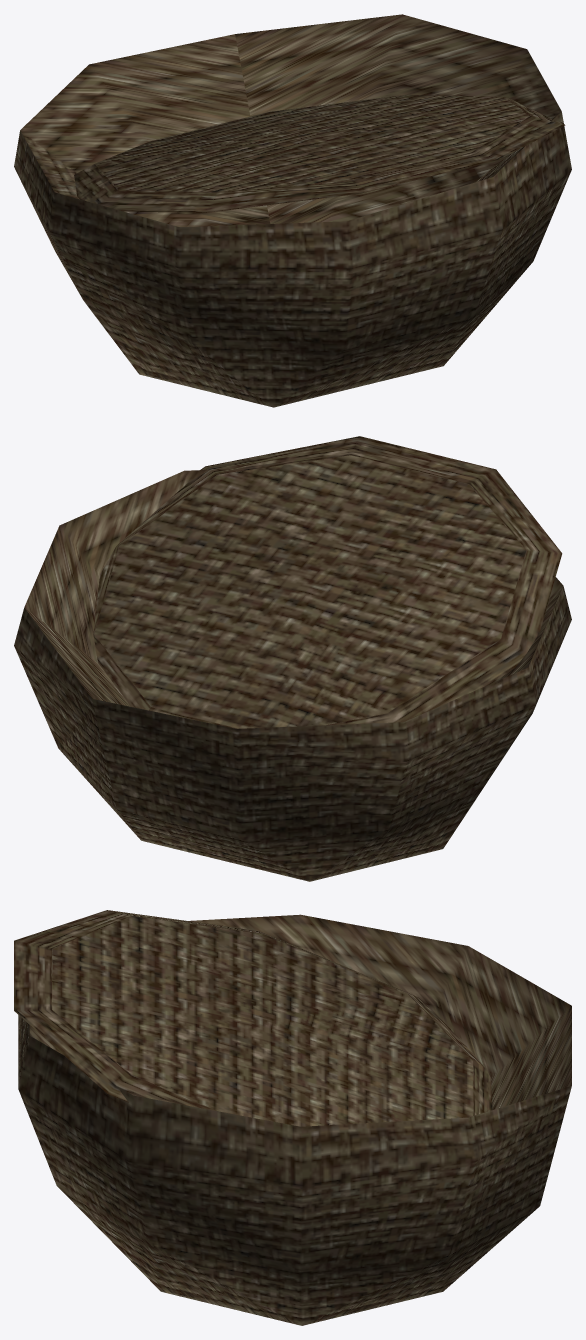
The model's file is edb_con_tato_basket_s01_l1.fbx.
The picture shows the model from 3 angles, top to bottom: view 1: azimuth 30°, elevation 25°; view 2: azimuth 150°, elevation 25°; view 3: azimuth 270°, elevation 25°; orthographic projection. The views are drawn at different scales.
Visible parts, largest first — view 1: mesh_node; view 2: mesh_node; view 3: mesh_node.
Part boxes in pixels (bbox=[...]): mesh_node: bbox=[14, 14, 571, 407]; mesh_node: bbox=[14, 436, 571, 881]; mesh_node: bbox=[14, 910, 571, 1325].
Size of the model in its own units: 1.01 by 0.5159 by 0.955.
Materials: 1 (1 with a texture image).
